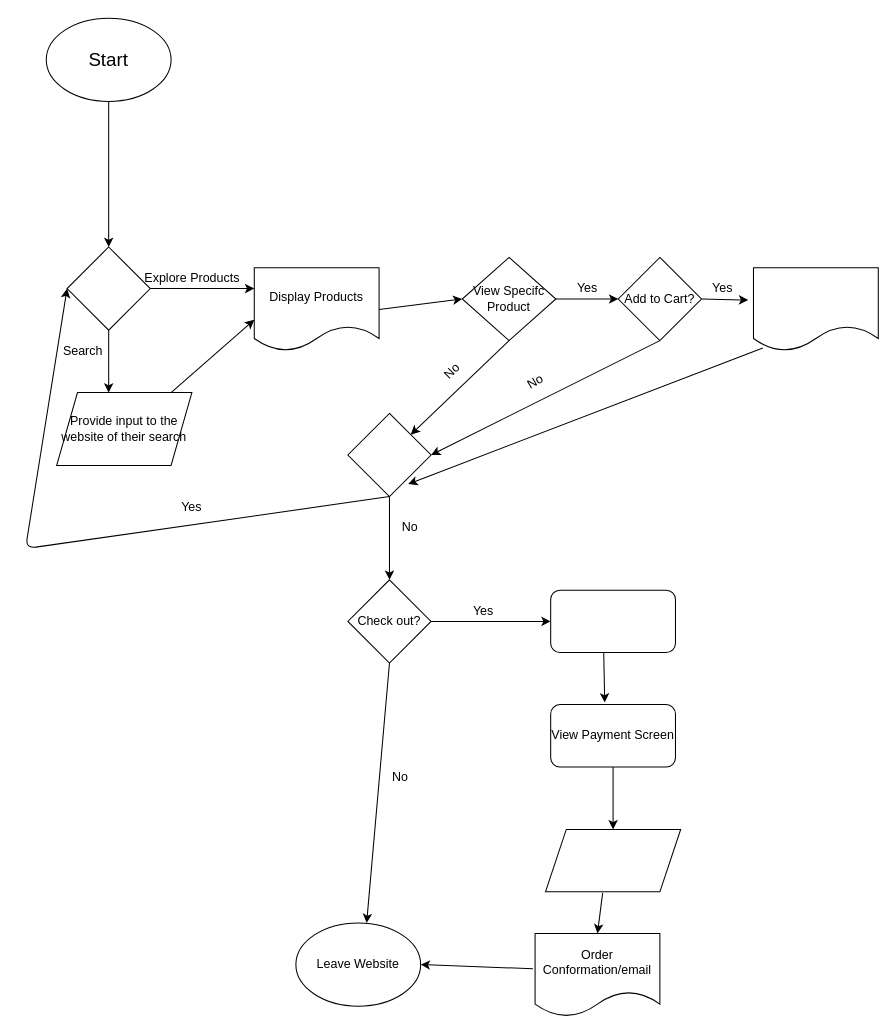
Some shapes in this 896 by 1035 pixel diagram are drawn without their labels. Each missing label, with the box of its shape:
Continue Shopping?: (347, 412, 431, 497)
Display Added to cart conformation: (752, 267, 878, 351)
Search or Explore?: (66, 246, 150, 330)
User input Payment Info: (544, 828, 681, 892)
View Cart Screen: (550, 589, 675, 653)
